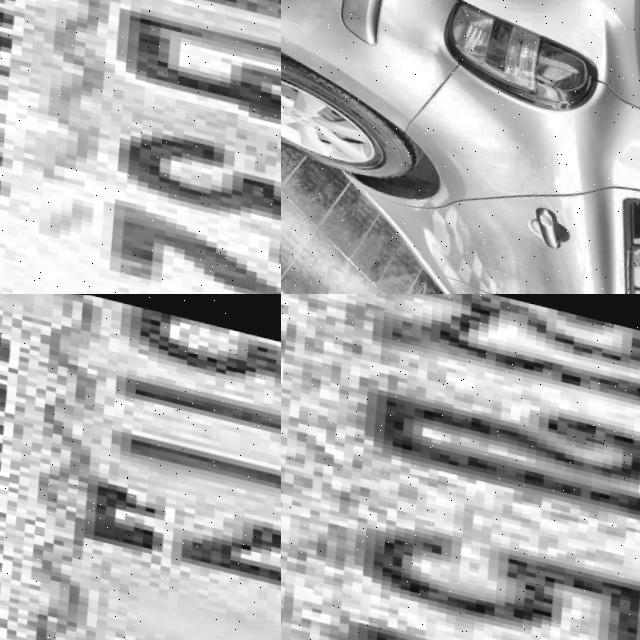license-plate: (281, 294, 640, 640), (0, 294, 281, 640), (0, 0, 281, 294)
